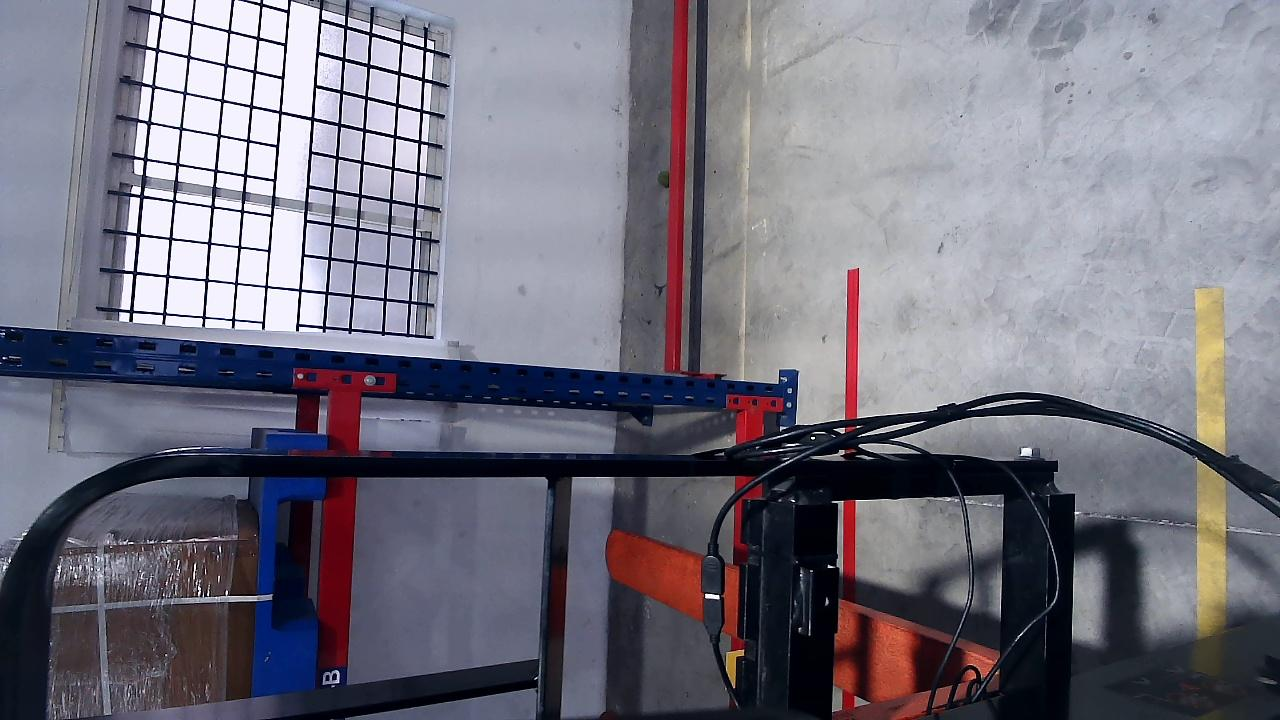h_rack: (313, 389, 367, 688)
red_line: (844, 268, 861, 417)
yellow_line: (1194, 291, 1233, 634)
